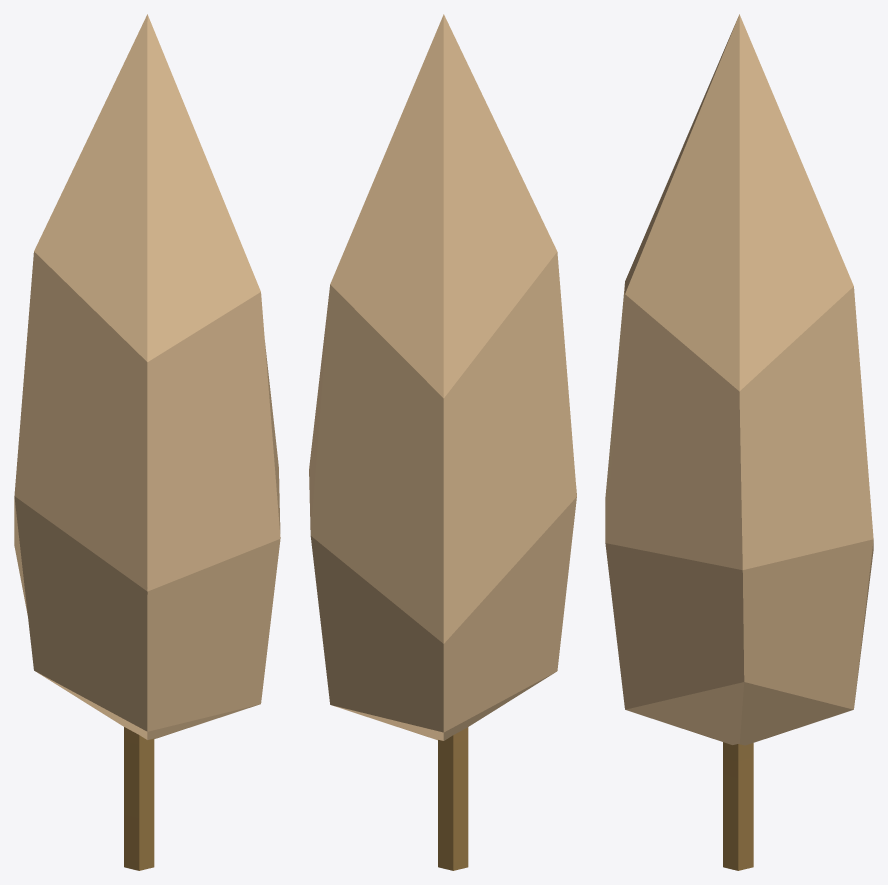
The model's file is Tree_Fall_2.fbx.
3 renders of one model, left to right at view 1: azimuth 30°, elevation 25°; view 2: azimuth 150°, elevation 25°; view 3: azimuth 270°, elevation 25°, orthographic.
Parts seen in each view (by area): view 1: polySurface2088; view 2: polySurface2088; view 3: polySurface2088.
Boxes of the visible parts, x1,y1,x2,y2 form: polySurface2088: (14, 14, 280, 870); polySurface2088: (309, 14, 576, 870); polySurface2088: (605, 14, 873, 870).
Bounding box in the file's own units: 4.98 × 15.15 × 4.31.
